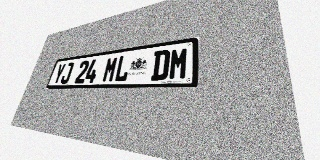2: (74, 60, 90, 83)
4: (84, 59, 100, 83)
D: (150, 49, 171, 81)
J: (60, 62, 75, 84)
L: (113, 54, 132, 82)
M: (168, 47, 189, 80), (101, 56, 119, 82)
Y: (52, 63, 66, 84)
